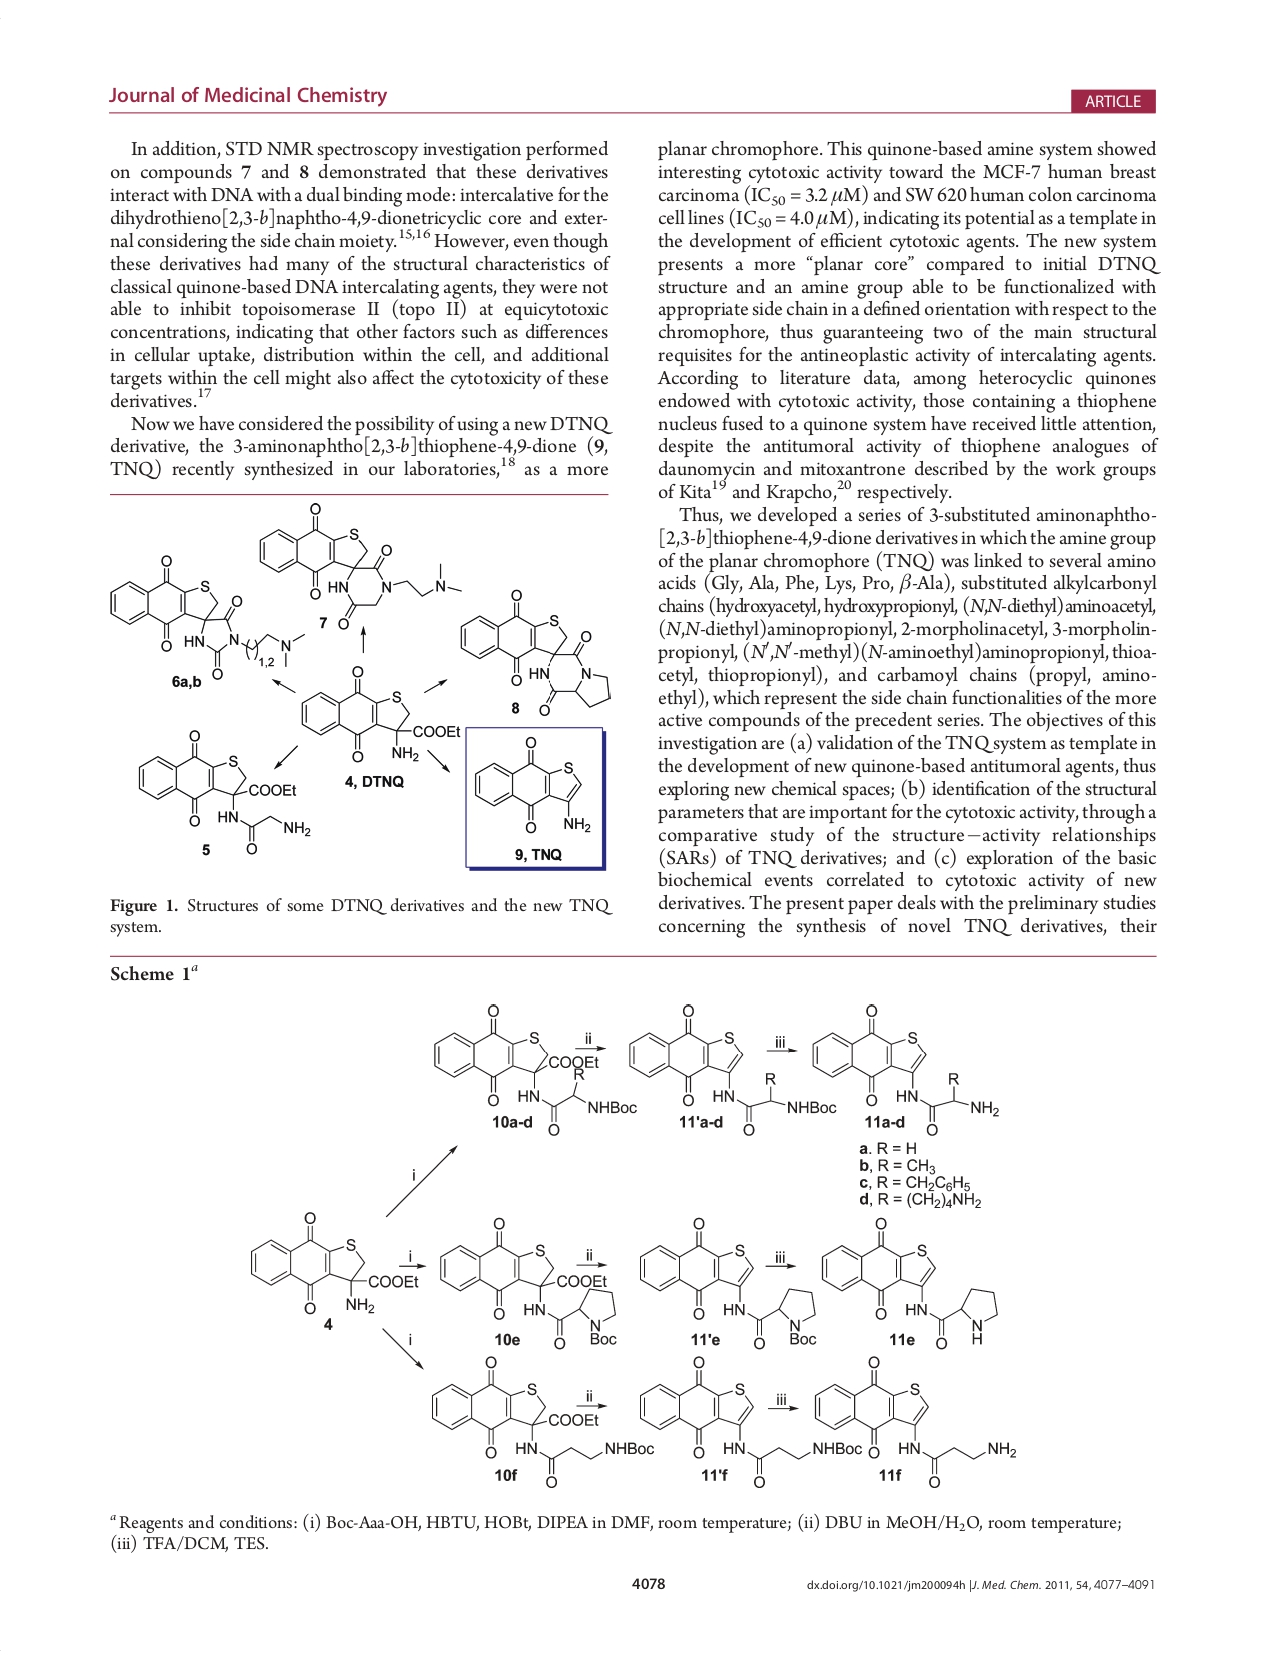exist_molecular: (636, 1352, 863, 1489), (430, 1354, 657, 1489), (625, 1000, 838, 1138), (432, 999, 640, 1138), (813, 1354, 1019, 1489), (257, 499, 465, 630), (810, 1001, 1004, 1138), (109, 553, 307, 681), (438, 1214, 620, 1351), (636, 1216, 819, 1351), (819, 1213, 999, 1350), (133, 727, 313, 856), (459, 586, 613, 715), (246, 1210, 422, 1317), (298, 662, 463, 763), (473, 731, 594, 840)
